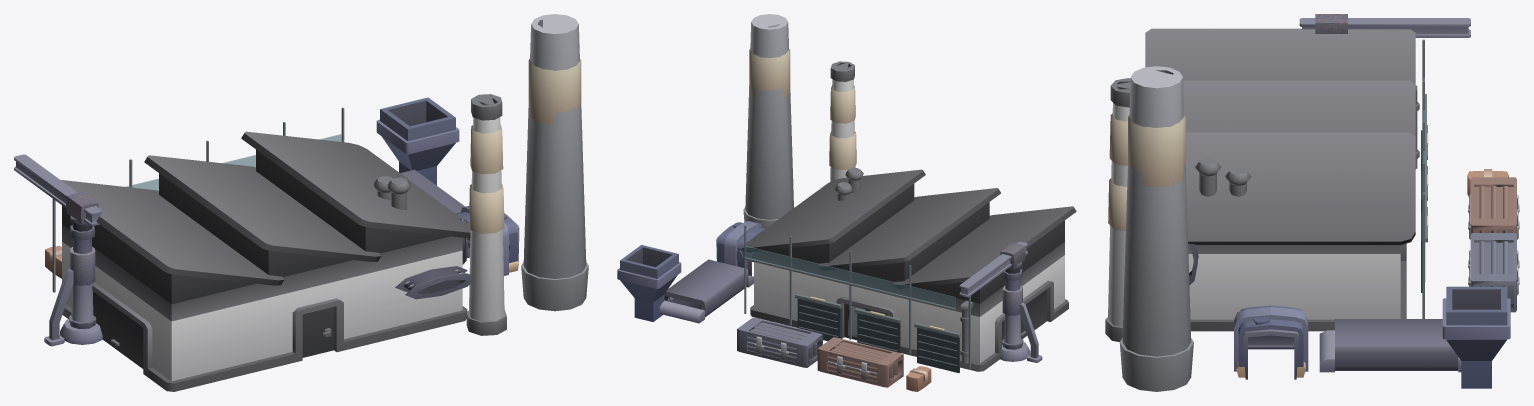
The model's file is steelMill.glb.
3 renders of one model, left to right at view 1: azimuth 30°, elevation 25°; view 2: azimuth 150°, elevation 25°; view 3: azimuth 270°, elevation 25°, orthographic. The views are drawn at different scales.
Parts seen in each view (by area): view 1: low-0, medium-0, high-0, high-1, medium-1, low-1, high-3, high-5; view 2: low-0, medium-0, high-0, high-1, medium-1, medium-2, high-3, low-1, high-5; view 3: medium-0, low-0, high-1, medium-1, high-0, low-1, high-3.
Boxes of the visible parts, x1,y1,x2,y2 form: low-0: (62,15,588,391); medium-0: (62,15,588,335); high-0: (61,14,581,391); high-1: (14,97,519,346); medium-1: (67,169,518,331); low-1: (14,155,101,345); high-3: (52,107,344,292); high-5: (125,134,342,190); low-0: (744,14,1073,371); medium-0: (737,14,1076,387); high-0: (737,15,1073,387); high-1: (617,187,1041,391); medium-1: (659,223,1024,350); medium-2: (797,298,959,372); high-3: (744,225,970,368); low-1: (960,242,1042,362); high-5: (745,246,955,308); medium-0: (1105,28,1518,391); low-0: (1108,28,1416,355); high-1: (1188,18,1510,388); medium-1: (1234,310,1461,379); high-0: (1117,29,1519,383); low-1: (1302,14,1468,37); high-3: (1422,39,1427,318).
Bounding box in the file's own units: 103 × 58 × 72.5.
Materials: 6 (2 with a texture image).
